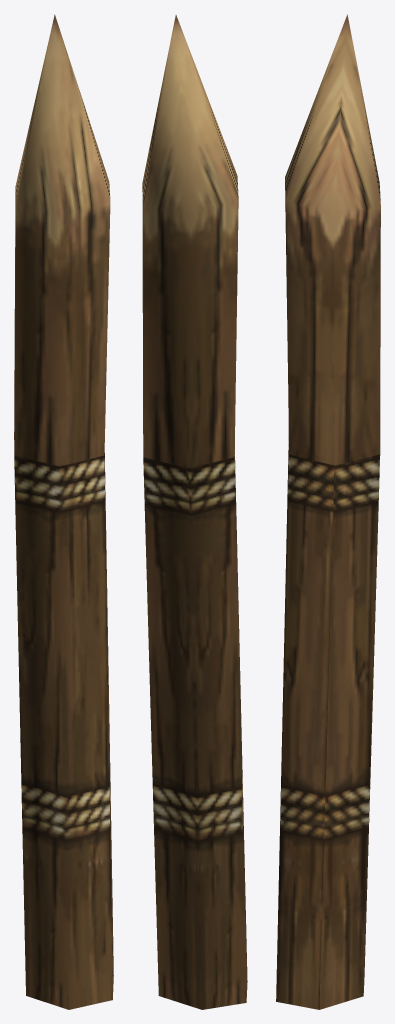
The model's file is 2_YiZhan_MuZhuang_02.FBX.
The picture shows the model from 3 angles, left to right: view 1: azimuth 90°, elevation 25°; view 2: azimuth 150°, elevation 25°; view 3: azimuth 330°, elevation 25°; orthographic projection.
Visible parts, largest first — view 1: 2_YiZhan_MuZhuan_02; view 2: 2_YiZhan_MuZhuan_02; view 3: 2_YiZhan_MuZhuan_02.
Boxes of the visible parts, left/top/right/bottom form: 2_YiZhan_MuZhuan_02: left=14, top=14, right=113, bottom=1009; 2_YiZhan_MuZhuan_02: left=142, top=15, right=247, bottom=1009; 2_YiZhan_MuZhuan_02: left=276, top=14, right=380, bottom=1009.
Size of the model in its own units: 31.97 by 297 by 27.82.
1 material, 1 textured.
